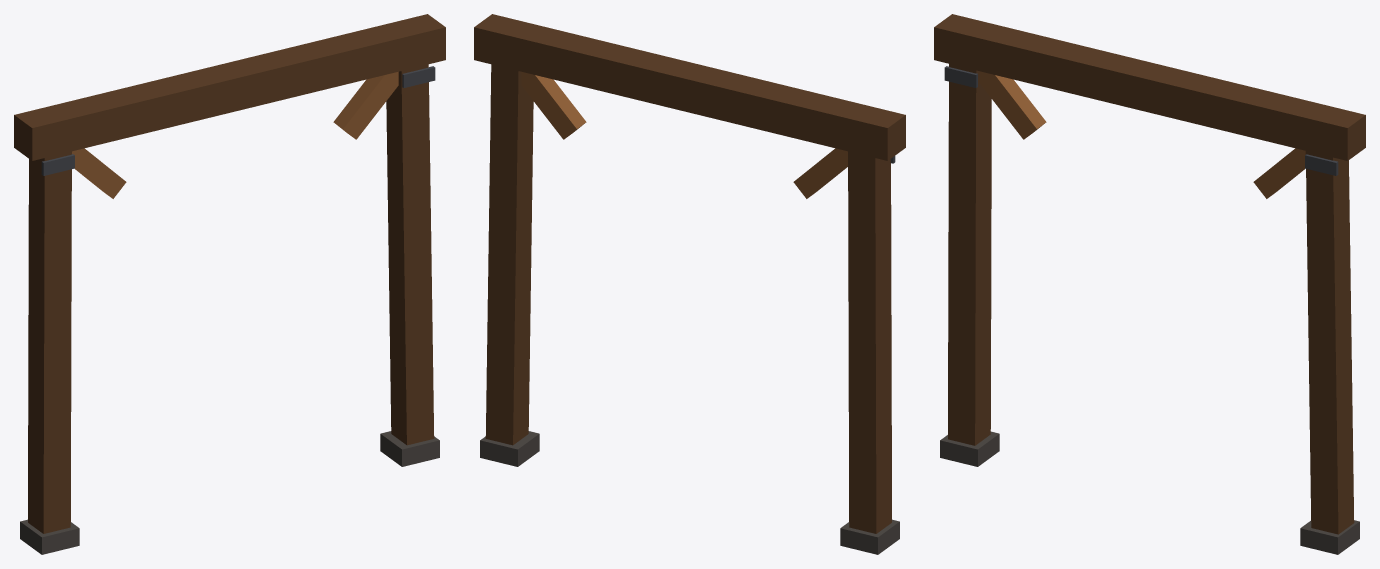
Rendered from mine_support_frame.glb.
The picture shows the model from 3 angles, left to right: view 1: azimuth 30°, elevation 25°; view 2: azimuth 150°, elevation 25°; view 3: azimuth 330°, elevation 25°; orthographic projection.
Visible parts, largest first — view 1: mine_support_frame; view 2: mine_support_frame; view 3: mine_support_frame.
Part boxes in pixels (left/top/right/bottom): mine_support_frame: left=14, top=14, right=445, bottom=554; mine_support_frame: left=474, top=14, right=905, bottom=554; mine_support_frame: left=934, top=14, right=1365, bottom=554.
Size of the model in its own units: 3.95 by 3.9 by 0.36.
